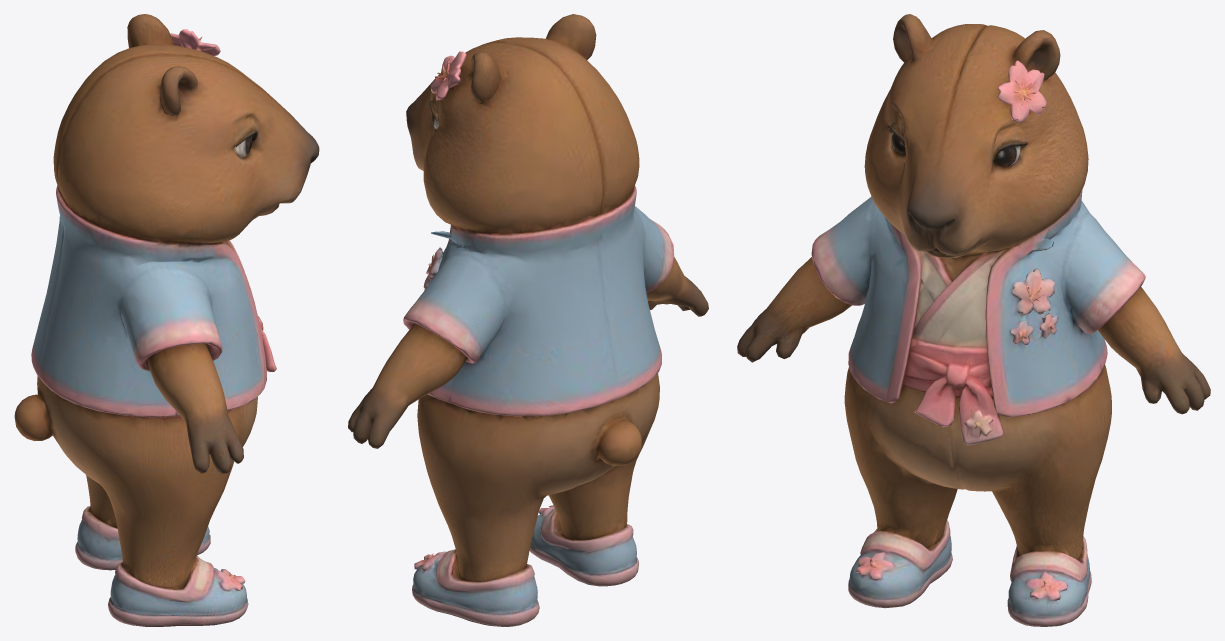
Rendered from 500049665-static-p1.glb.
3 renders of one model, left to right at view 1: azimuth 30°, elevation 25°; view 2: azimuth 150°, elevation 25°; view 3: azimuth 270°, elevation 25°, orthographic. The views are drawn at different scales.
Visible parts, largest first — view 1: tripo_node_9cf2e450-dc3f-4a80-84df-b72b34081647; view 2: tripo_node_9cf2e450-dc3f-4a80-84df-b72b34081647; view 3: tripo_node_9cf2e450-dc3f-4a80-84df-b72b34081647.
Part boxes in pixels (bbox=[...]): tripo_node_9cf2e450-dc3f-4a80-84df-b72b34081647: bbox=[14, 14, 319, 626]; tripo_node_9cf2e450-dc3f-4a80-84df-b72b34081647: bbox=[348, 14, 708, 626]; tripo_node_9cf2e450-dc3f-4a80-84df-b72b34081647: bbox=[737, 14, 1210, 626].
Bounding box in the file's own units: 0.3036 × 0.6 × 0.4542.
1 material, 1 textured.
